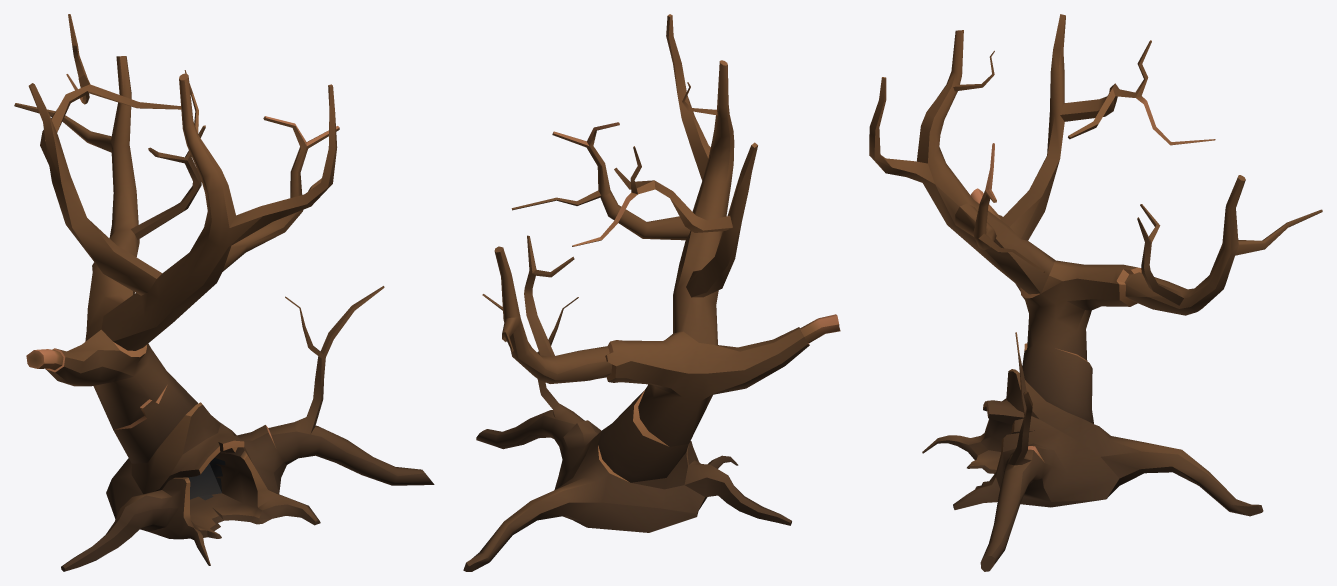
File: Tree_8A.fbx
The picture shows the model from 3 angles, left to right: view 1: azimuth 30°, elevation 25°; view 2: azimuth 150°, elevation 25°; view 3: azimuth 270°, elevation 25°; orthographic projection. The views are drawn at different scales.
Visible parts, largest first — view 1: Tree_8A; view 2: Tree_8A; view 3: Tree_8A.
Part boxes in pixels (x1,y1,x2,y2): Tree_8A: (14, 14, 434, 571); Tree_8A: (463, 14, 840, 571); Tree_8A: (869, 14, 1322, 571).
Bounding box in the file's own units: 1471 × 1681 × 1595.
